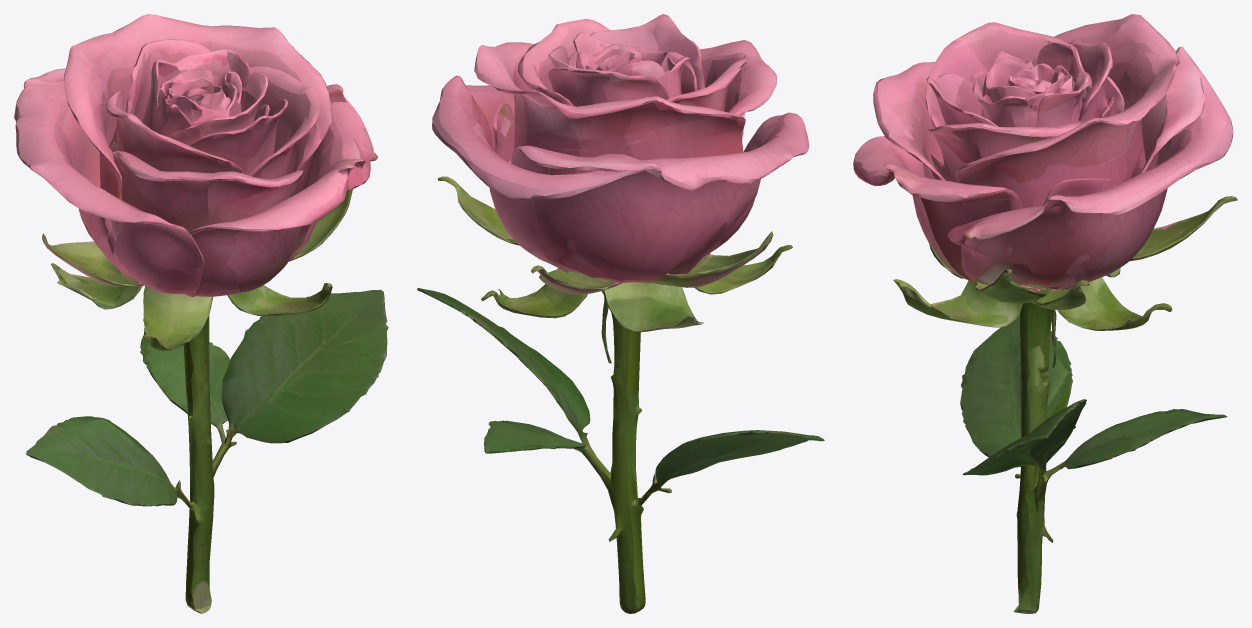
File: rose-pink.glb
3 views of the same model, side by side, from view 1: azimuth 30°, elevation 25°; view 2: azimuth 150°, elevation 25°; view 3: azimuth 270°, elevation 25° (orthographic). The views are drawn at different scales.
Visible parts, largest first — view 1: geometry_0; view 2: geometry_0; view 3: geometry_0.
Part boxes in pixels (left/top/right/bottom): geometry_0: left=14, top=14, right=388, bottom=613; geometry_0: left=417, top=14, right=824, bottom=613; geometry_0: left=853, top=14, right=1237, bottom=613.
Bounding box in the file's own units: 0.323 × 0.45 × 0.2794.
Materials: 1 (1 with a texture image).
